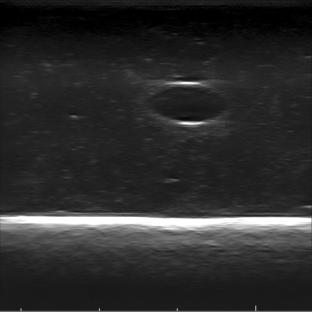vessel: (148, 81, 228, 128)
